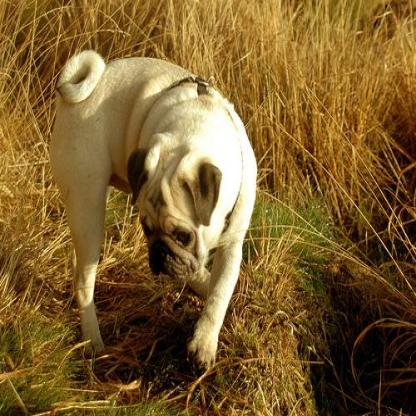pug: (49, 50, 257, 368)
